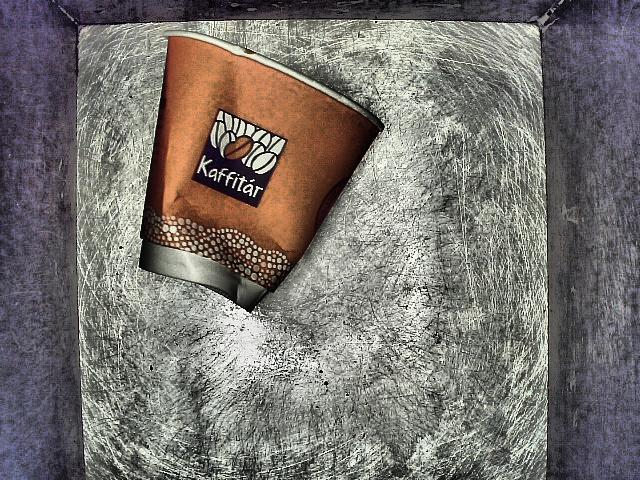Paper: (128, 23, 385, 334)
